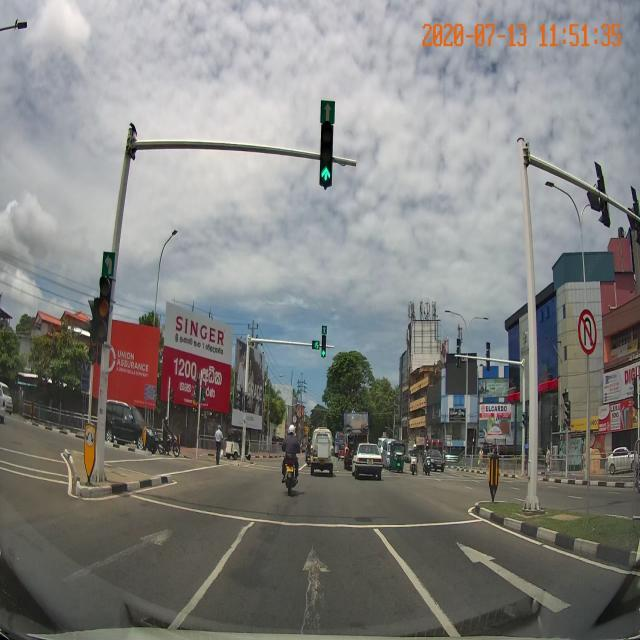forward: (162, 530, 464, 639)
